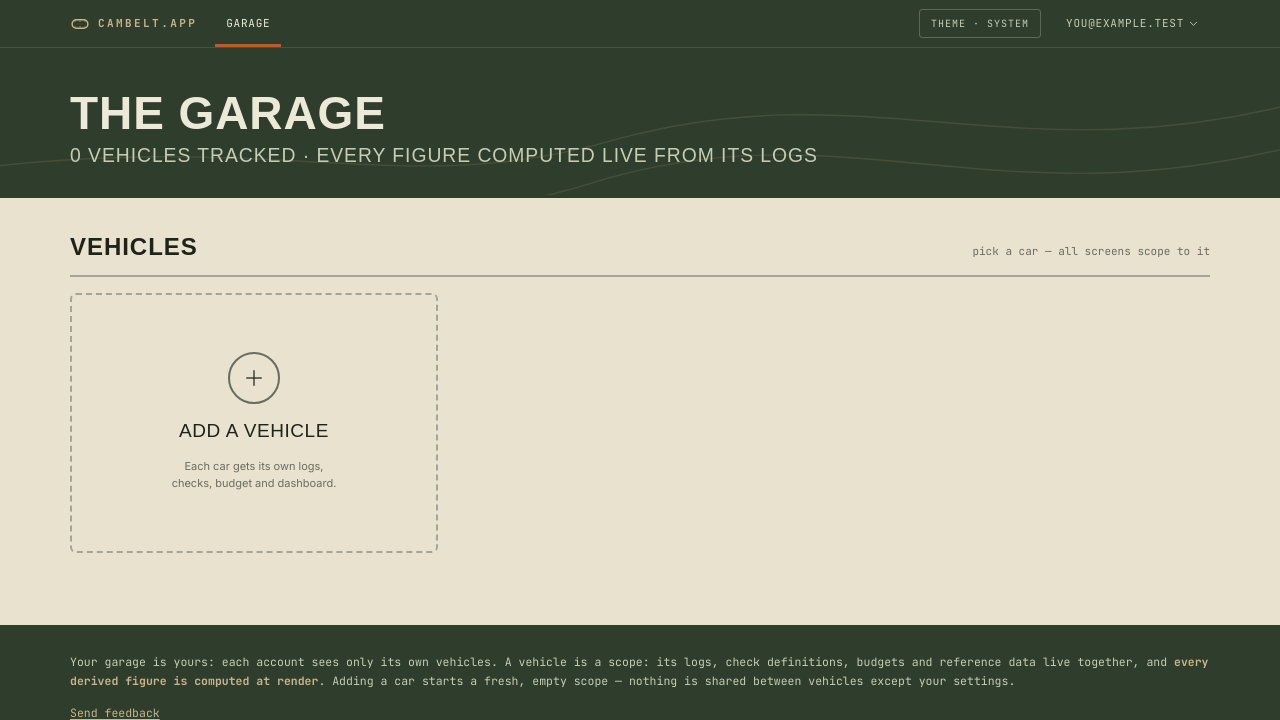
Scenario: the add-vehicle sheet › asks for the mileage at purchase, which is what it stores
The image size is (1280, 720).
Step 1. Click the button "Add a vehicle" → click(254, 422), box [70,292,438,552]
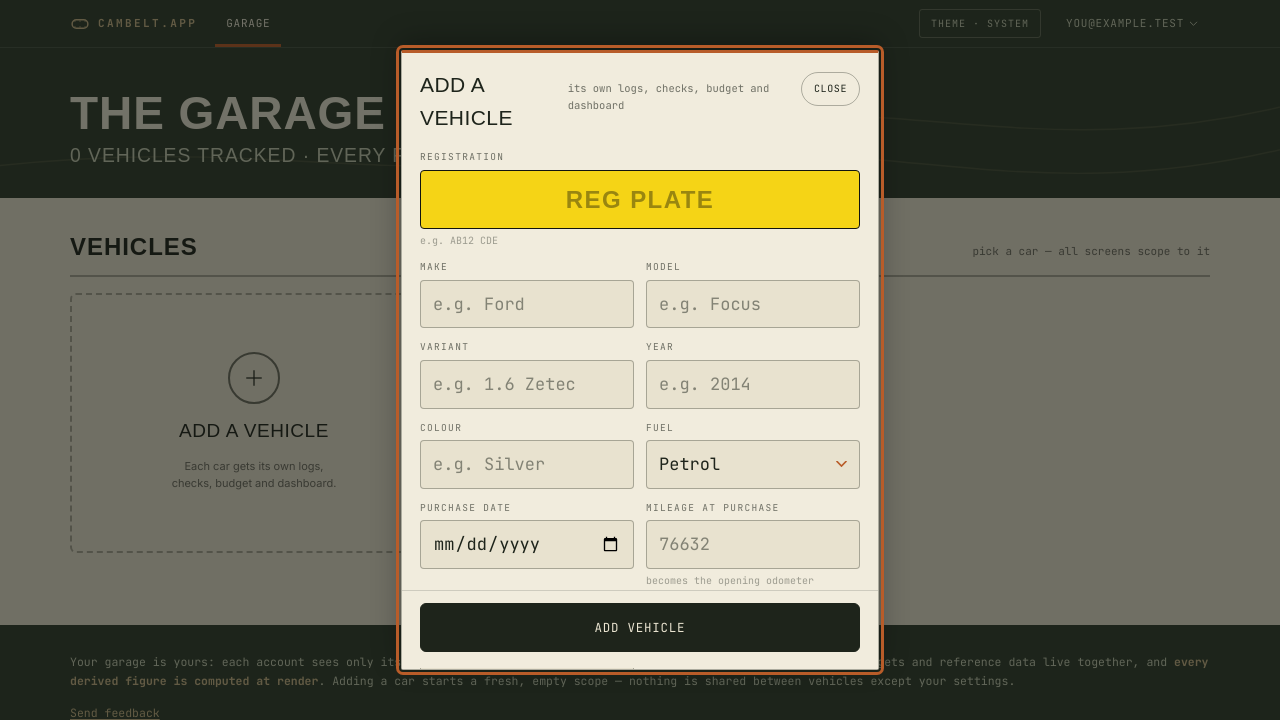
Expected: the field labelled "Mileage at purchase" is shown, [646,520,860,569]
Expected: the text "becomes the opening odometer reading" is shown, [646,574,814,601]
